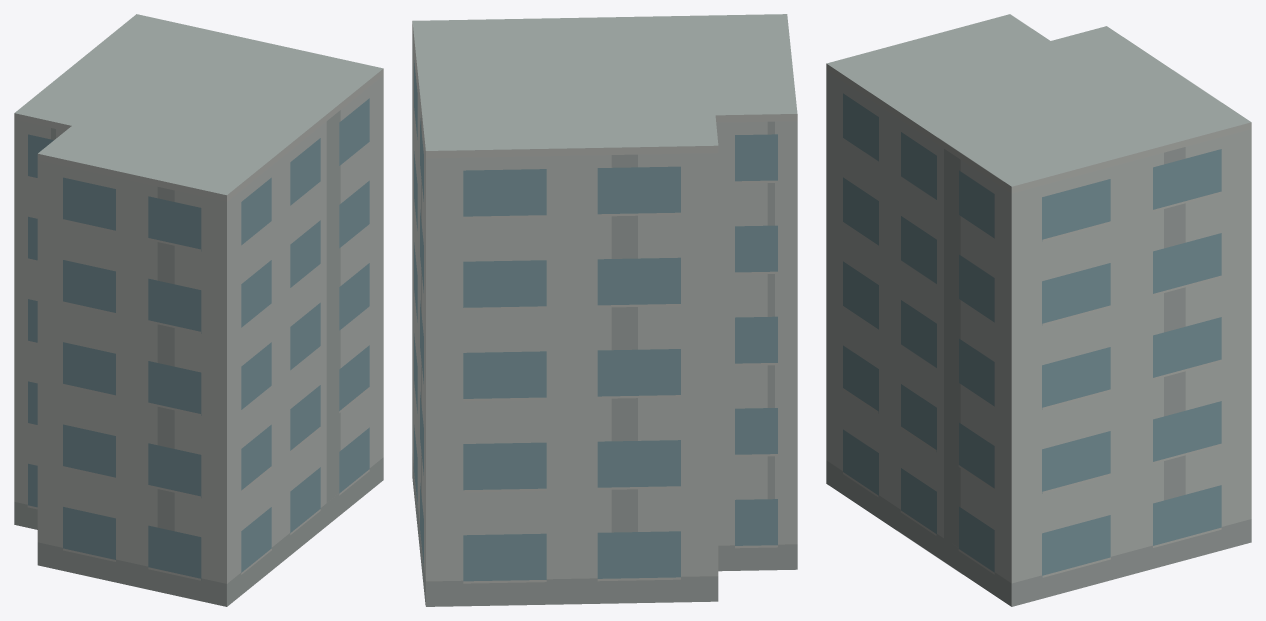
Rendered from residential-c130e680-4820-4d8e-b56d-33dab715b911.glb.
3 renders of one model, left to right at view 1: azimuth 30°, elevation 25°; view 2: azimuth 150°, elevation 25°; view 3: azimuth 270°, elevation 25°, orthographic. The views are drawn at different scales.
Visible parts, largest first — view 1: residential-c130e680-4820-4d8e-b56d-33dab715b911.tmp; view 2: residential-c130e680-4820-4d8e-b56d-33dab715b911.tmp; view 3: residential-c130e680-4820-4d8e-b56d-33dab715b911.tmp.
Boxes of the visible parts, <box> form: residential-c130e680-4820-4d8e-b56d-33dab715b911.tmp: <box>14,14,383,606</box>; residential-c130e680-4820-4d8e-b56d-33dab715b911.tmp: <box>412,14,797,606</box>; residential-c130e680-4820-4d8e-b56d-33dab715b911.tmp: <box>826,14,1251,606</box>.
Size of the model in its own units: 13.24 by 15 by 13.77.
